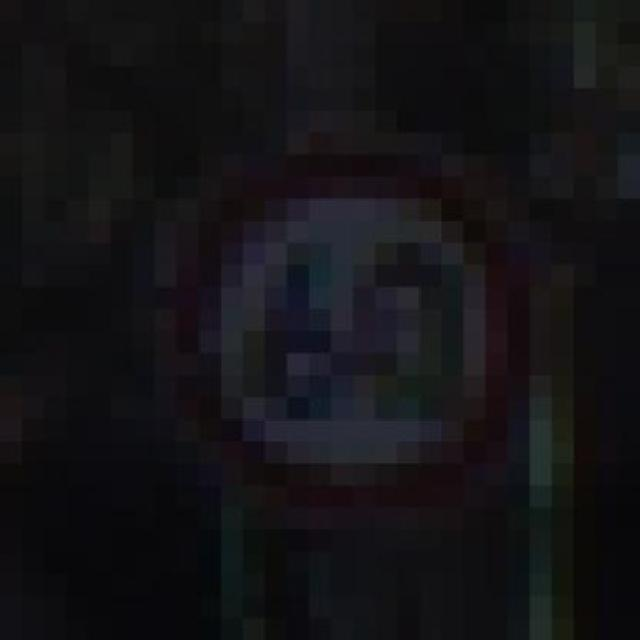forb_speed_over_60: (193, 157, 516, 498)
